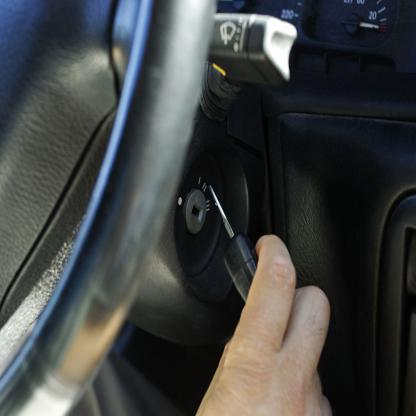keys: (203, 180, 263, 304)
